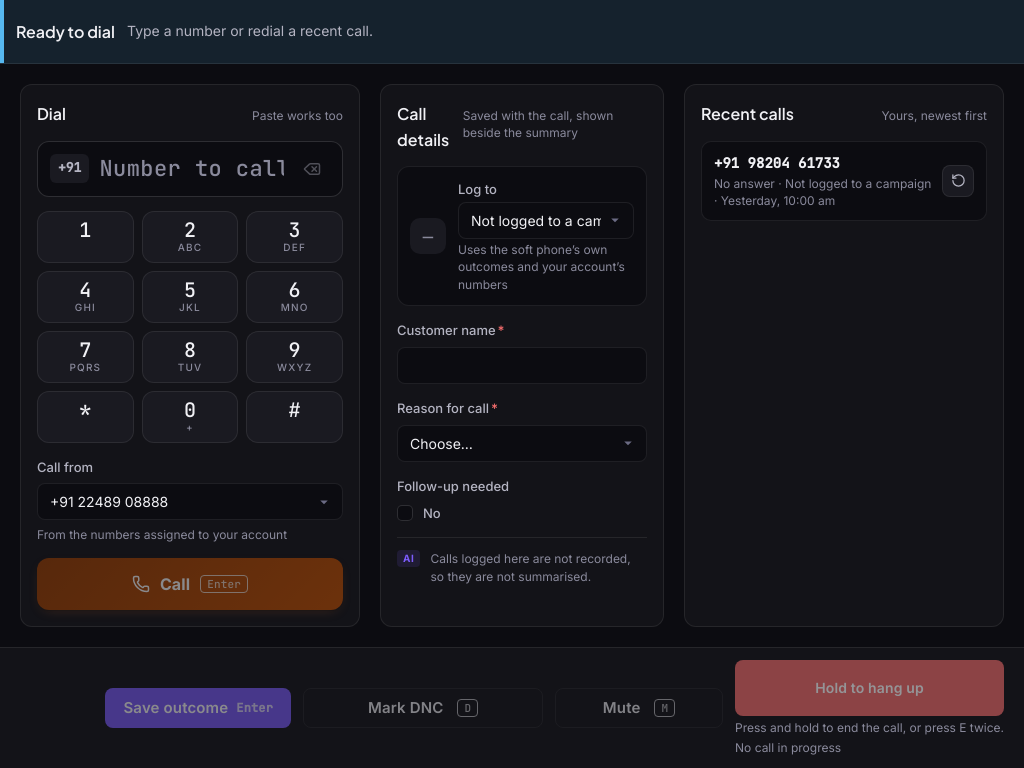
Ready › dials from the pad buttons too
Click the button "9 WXYZ" at point(295, 357), box x1=246 y1=331 x2=343 y2=383
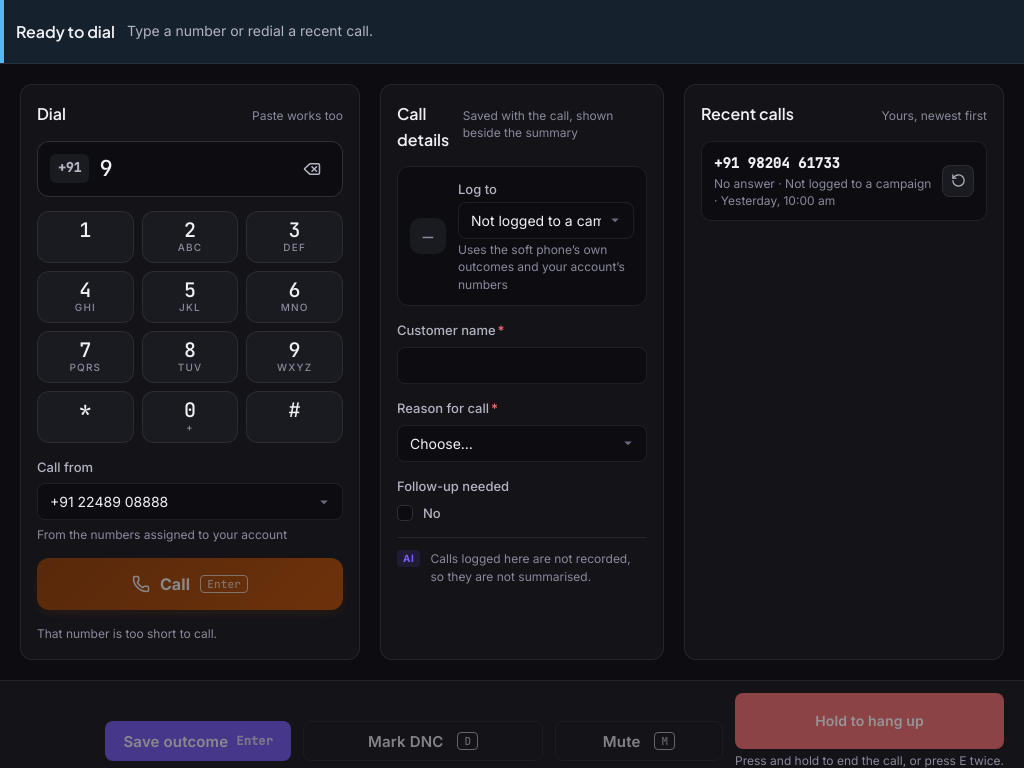
Click the button "8 TUV" at point(190, 357), box x1=142 y1=331 x2=238 y2=383
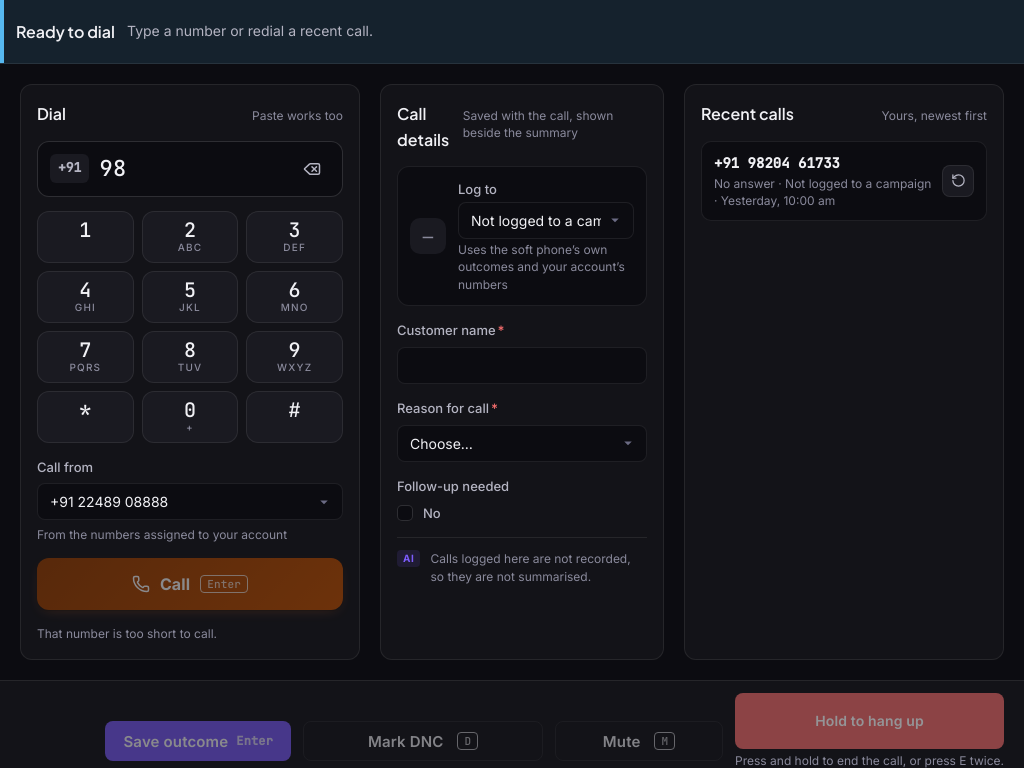
Click the button "2 ABC" at point(190, 237), box x1=142 y1=211 x2=238 y2=263
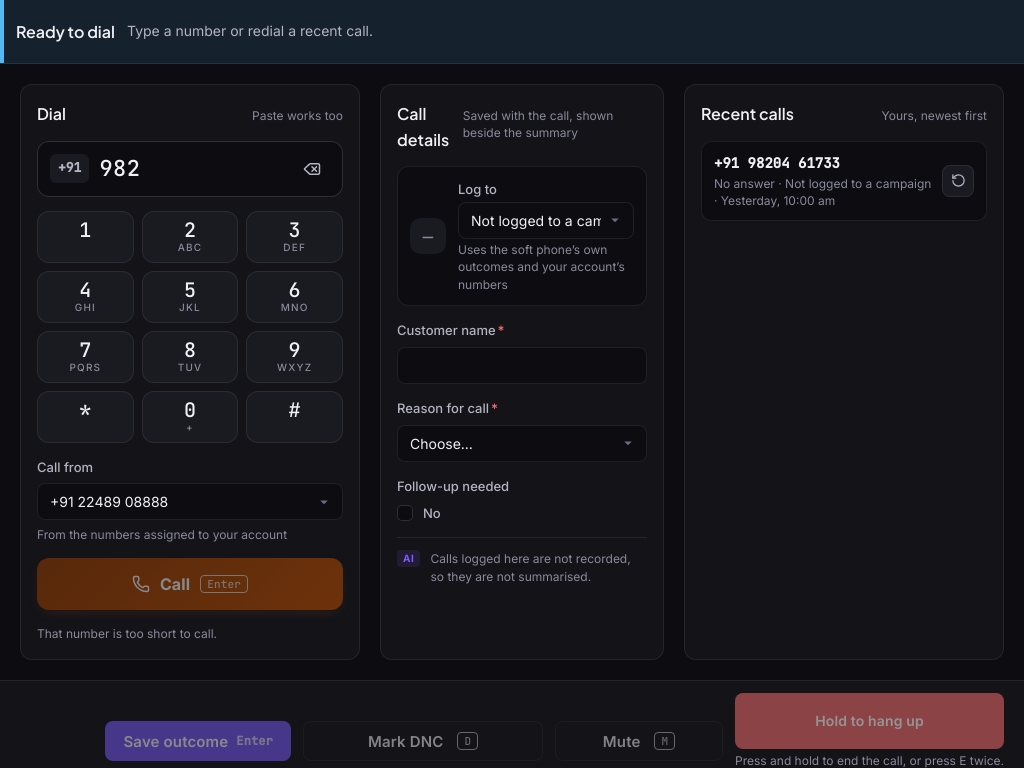
Click the button "0 +" at point(190, 417), box x1=142 y1=391 x2=238 y2=443
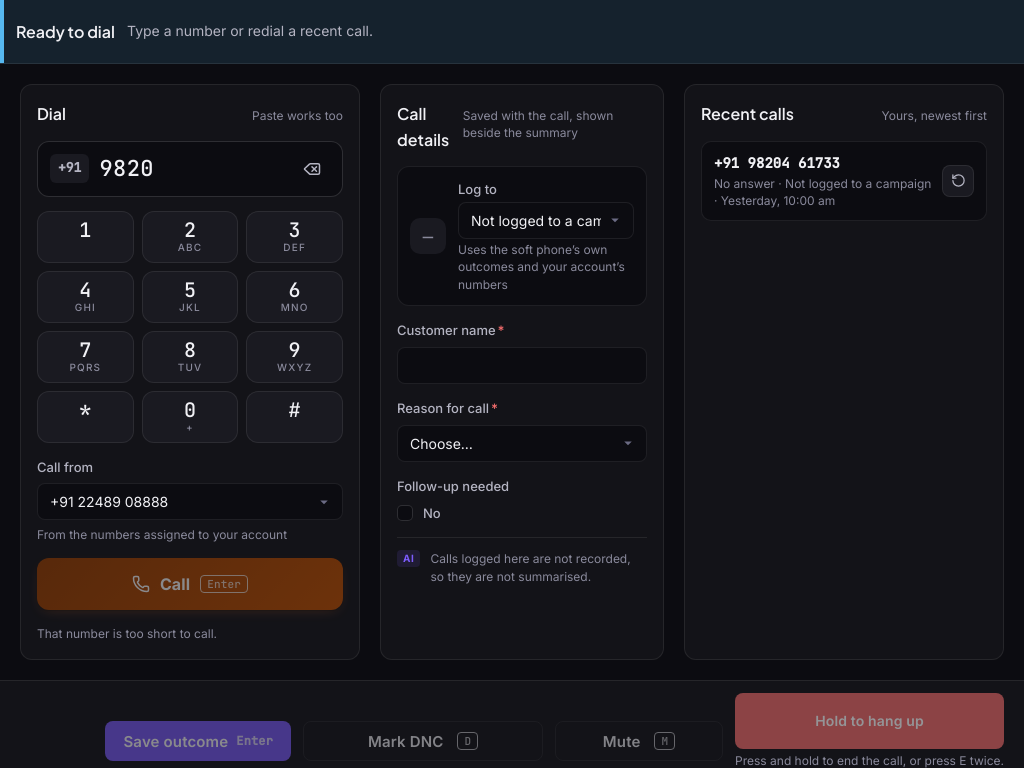
Result: the text with test id "dial-reason" reads "That number is too short to call." at x1=37 y1=626 x2=217 y2=641
Result: the field with test id "dial-number" holds "9820" at x1=99 y1=154 x2=284 y2=183
